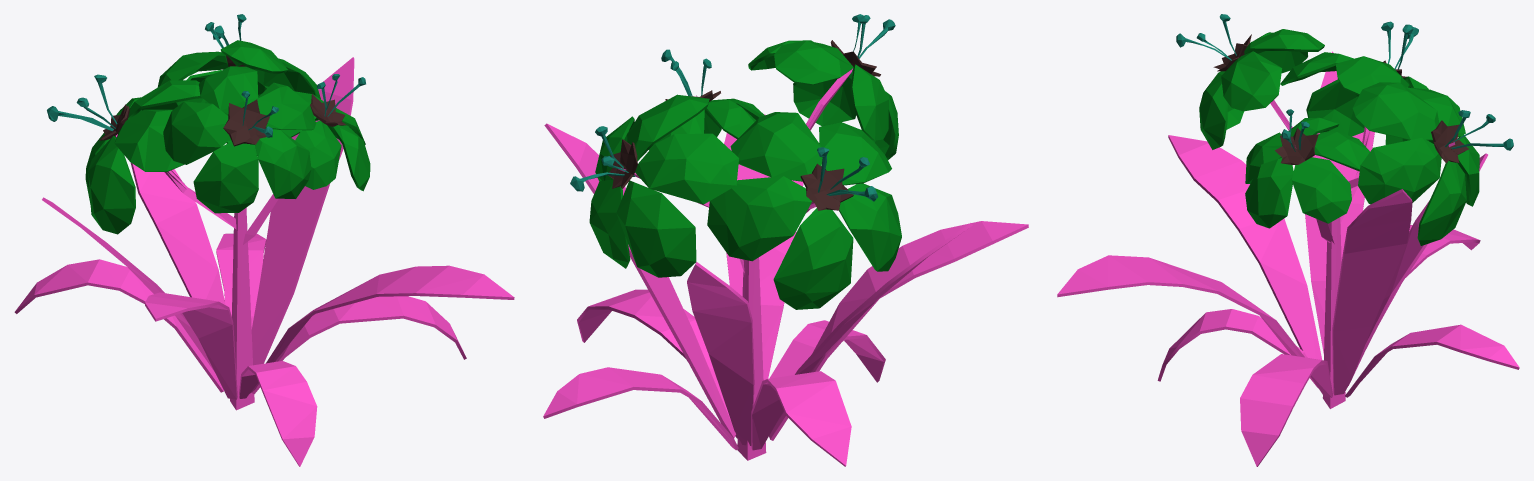
The model's file is ShrubJungleRedSmall04.fbx.
3 renders of one model, left to right at view 1: azimuth 30°, elevation 25°; view 2: azimuth 150°, elevation 25°; view 3: azimuth 270°, elevation 25°, orthographic. The views are drawn at different scales.
Parts seen in each view (by area): view 1: ShrubJungleRedSmall04_LOD0; view 2: ShrubJungleRedSmall04_LOD0; view 3: ShrubJungleRedSmall04_LOD0.
Part boxes in pixels (bbox=[...]): ShrubJungleRedSmall04_LOD0: bbox=[14, 14, 514, 466]; ShrubJungleRedSmall04_LOD0: bbox=[543, 14, 1028, 466]; ShrubJungleRedSmall04_LOD0: bbox=[1057, 14, 1519, 466].
Size of what is drawn, in the model's own units: 94.34 by 84.99 by 97.59.
